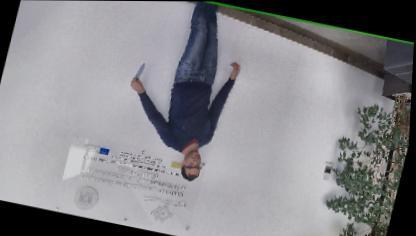knife: (129, 57, 148, 88)
